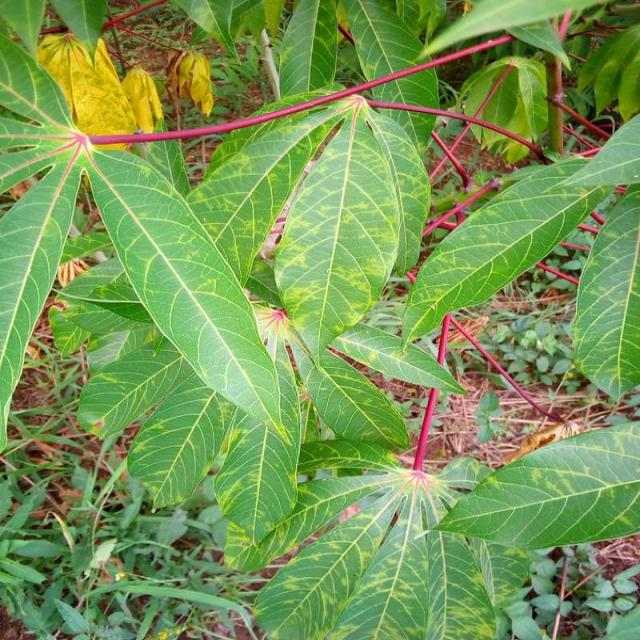cassava leaf: (1, 2, 638, 637), (82, 142, 286, 440), (400, 152, 611, 351), (273, 98, 402, 367), (430, 419, 639, 552)
